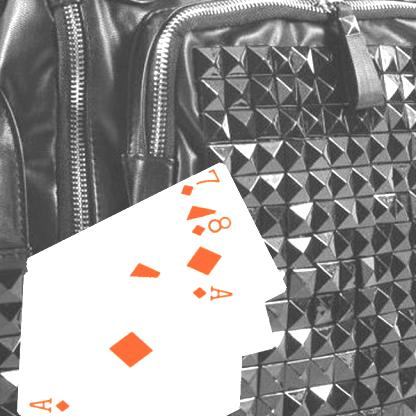7D: (177, 167, 222, 198)
8D: (188, 212, 234, 237)
AD: (26, 394, 71, 414), (190, 282, 234, 302)
